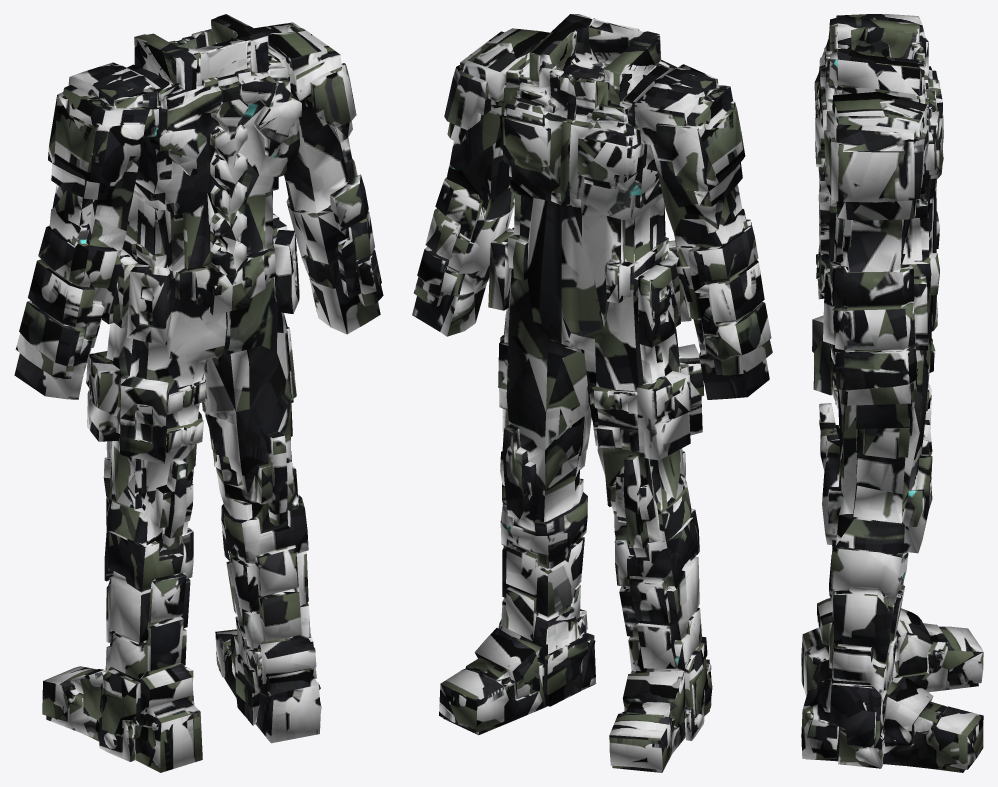
The picture shows the model from 3 angles, left to right: view 1: azimuth 30°, elevation 25°; view 2: azimuth 150°, elevation 25°; view 3: azimuth 270°, elevation 25°; orthographic projection. The views are drawn at different scales.
Visible parts, largest first — view 1: mk1; view 2: mk1; view 3: mk1.
Part boxes in pixels (left/top/right/bottom): mk1: left=14, top=14, right=383, bottom=772; mk1: left=412, top=14, right=772, bottom=772; mk1: left=801, top=14, right=983, bottom=772.
Size of the model in its own units: 0.776 by 1.5 by 0.3621.
